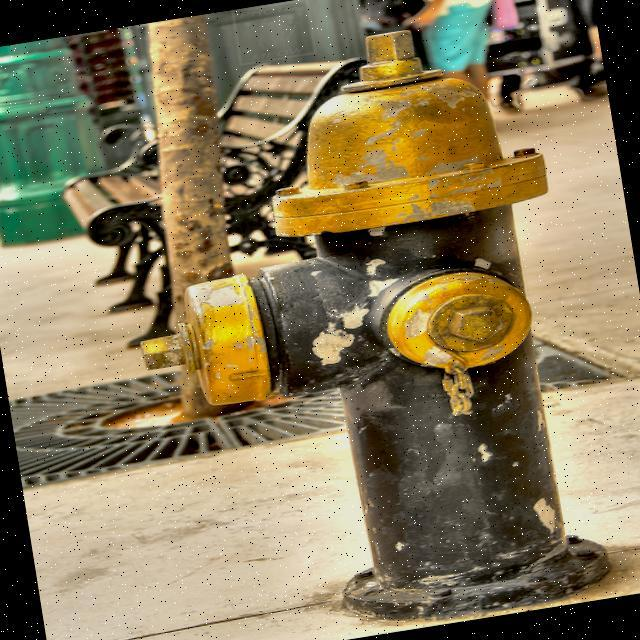fire_hydrant: (93, 3, 622, 640)
